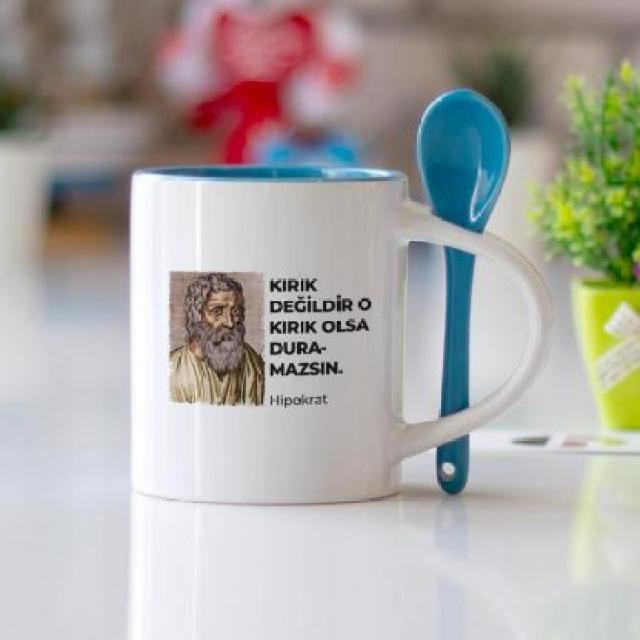taza: (132, 163, 556, 504)
